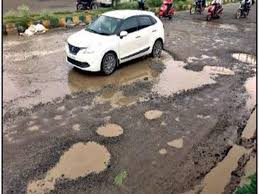potholes: (92, 116, 133, 143)
